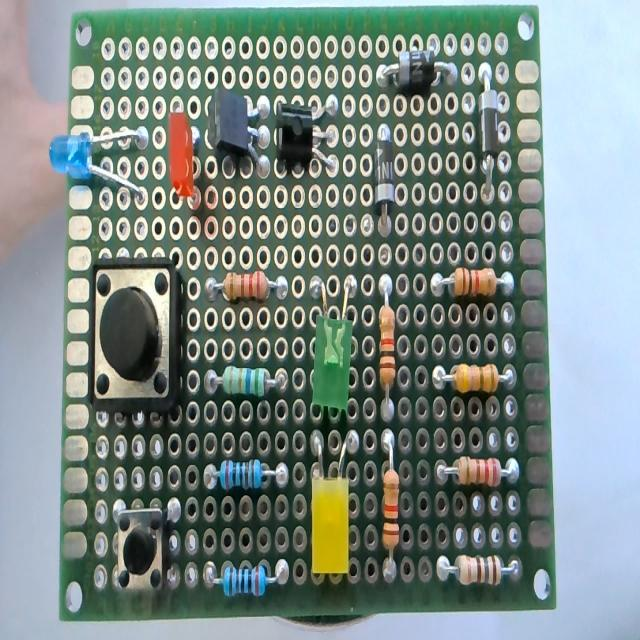diode: (379, 48, 455, 94), (476, 70, 502, 184), (374, 120, 394, 236)
led: (49, 125, 152, 203), (310, 275, 356, 418), (311, 434, 353, 574), (167, 108, 203, 202)
resistor: (204, 559, 290, 597), (378, 271, 398, 423), (381, 433, 400, 570), (204, 459, 285, 491), (438, 554, 516, 586), (433, 267, 513, 298), (206, 272, 288, 302), (439, 455, 517, 486), (206, 368, 286, 397), (437, 364, 511, 393)
switch: (89, 256, 182, 414), (117, 507, 168, 589)
transistor: (206, 88, 270, 174), (273, 97, 340, 175)
